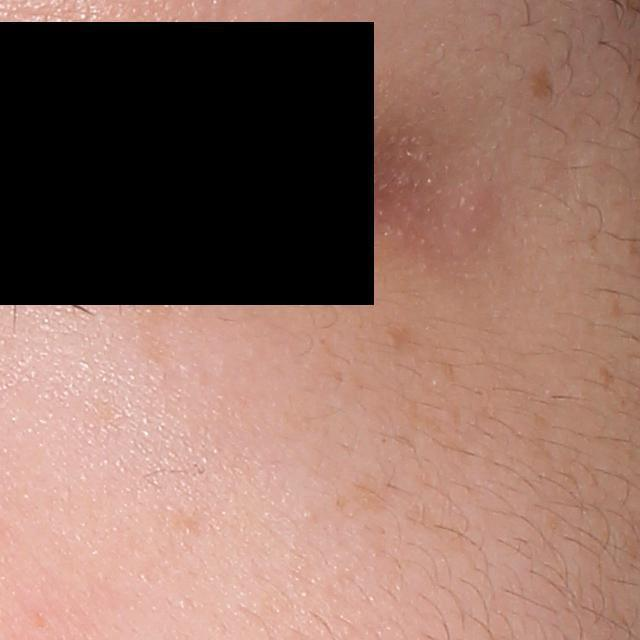melasma: (337, 472, 404, 515), (527, 56, 556, 102)
